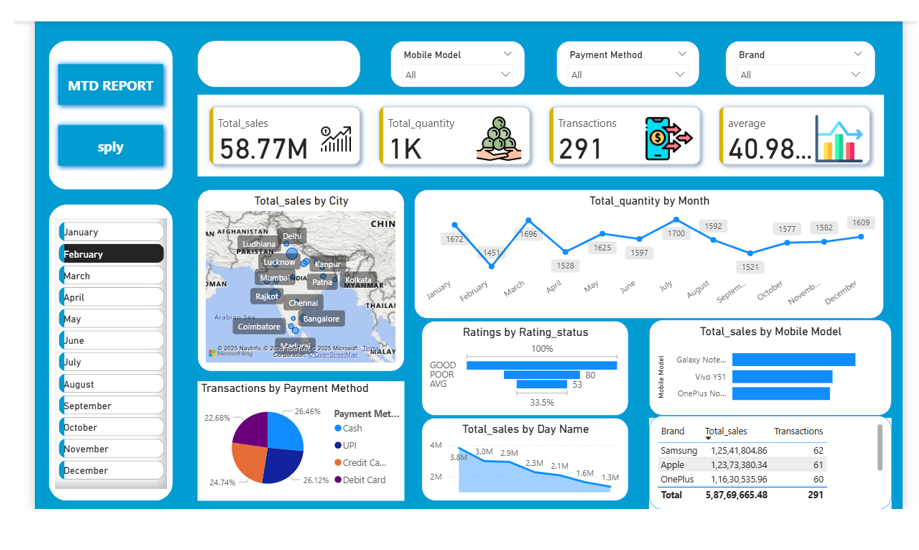

The dashboard page shown, as its layout file describes it:
{"tool":"powerbi","page":{"name":"sales_dashboard","canvas":[1280,720],"ordinal":0},"visuals":[{"type":"shape","box":[20.7,28.6,182.9,219.5],"z":0},{"type":"shape","box":[20.7,270.4,182.9,437.4],"z":1000},{"type":"advancedSlicerVisual","fields":{"Values":["custom_calendar.date.Variation.Date Hierarchy.Month"]},"box":[30.2,291.1,165.4,399.2],"z":2000},{"type":"cardVisual","fields":{"Data":["sales_data.Total_sales","sales_data.Total_quantity","sales_data.Transactions","sales_data.average"]},"box":[240.2,108.2,1013.2,120.9],"z":3000},{"type":"slicer","fields":{"Values":["sales_data.Mobile Model"]},"box":[524.9,28.6,198.8,68.4],"z":4000},{"type":"slicer","fields":{"Values":["sales_data.Payment Method"]},"box":[769.9,28.6,211.6,68.4],"z":5000},{"type":"slicer","fields":{"Values":["sales_data.Brand"]},"box":[1019.6,28.6,221.1,68.4],"z":6000},{"type":"shape","box":[240.2,28.6,240.2,68.4],"z":7000},{"type":"map","fields":{"Category":["sales_data.City"],"Size":["sales_data.Total_sales"]},"box":[240.2,248.1,305.4,268.8],"z":8000},{"type":"lineChart","fields":{"Category":["custom_calendar.date.Variation.Date Hierarchy.Month"],"Y":["sales_data.Total_quantity"]},"box":[559.9,248.1,693.5,190.9],"z":9000},{"type":"funnel","title":"Ratings by Rating_status","fields":{"Category":["sales_data.Rating_status"],"Y":["sales_data.Customer Ratings"]},"box":[571,442.2,305.4,140],"z":10000},{"type":"pieChart","fields":{"Y":["sales_data.Transactions"],"Category":["sales_data.Payment Method"]},"box":[240.2,531.3,305.4,176.6],"z":11000},{"type":"clusteredBarChart","fields":{"Category":["sales_data.Mobile Model"],"Y":["sales_data.Total_sales"]},"box":[906.6,440.6,357.9,141.6],"z":12000},{"type":"areaChart","fields":{"Category":["custom_calendar.Day Name"],"Y":["sales_data.Total_sales"]},"box":[571,585.3,305.4,122.5],"z":13000},{"type":"tableEx","box":[906.6,585.3,357.9,135.2],"z":14000},{"type":"tableEx","fields":{"Values":["sales_data.Brand","sales_data.Total_sales","sales_data.Transactions"]},"box":[906.6,582.2,357.9,138.4],"z":15000},{"type":"pageNavigator","box":[25.4,54.1,173.4,168.6],"z":15001}]}

Visuals, with their boxes on the page's 1280x720 design canvas (x1, y1, x2, y2). These are canvas units, not pixel positions in the 919x550 screenshot, which may show the page scaled, cropped or inside an application window:
shape: (21, 29, 204, 248)
shape: (21, 270, 204, 708)
advancedSlicerVisual - custom_calendar.date.Variation.Date Hierarchy.Month: (30, 291, 196, 690)
cardVisual - sales_data.Total_sales x sales_data.Total_quantity: (240, 108, 1253, 229)
slicer - sales_data.Mobile Model: (525, 29, 724, 97)
slicer - sales_data.Payment Method: (770, 29, 982, 97)
slicer - sales_data.Brand: (1020, 29, 1241, 97)
shape: (240, 29, 480, 97)
map - sales_data.City x sales_data.Total_sales: (240, 248, 546, 517)
lineChart - custom_calendar.date.Variation.Date Hierarchy.Month x sales_data.Total_quantity: (560, 248, 1253, 439)
"Ratings by Rating_status" funnel: (571, 442, 876, 582)
pieChart - sales_data.Transactions x sales_data.Payment Method: (240, 531, 546, 708)
clusteredBarChart - sales_data.Mobile Model x sales_data.Total_sales: (907, 441, 1264, 582)
areaChart - custom_calendar.Day Name x sales_data.Total_sales: (571, 585, 876, 708)
tableEx: (907, 585, 1264, 720)
tableEx - sales_data.Brand x sales_data.Total_sales: (907, 582, 1264, 721)
pageNavigator: (25, 54, 199, 223)
